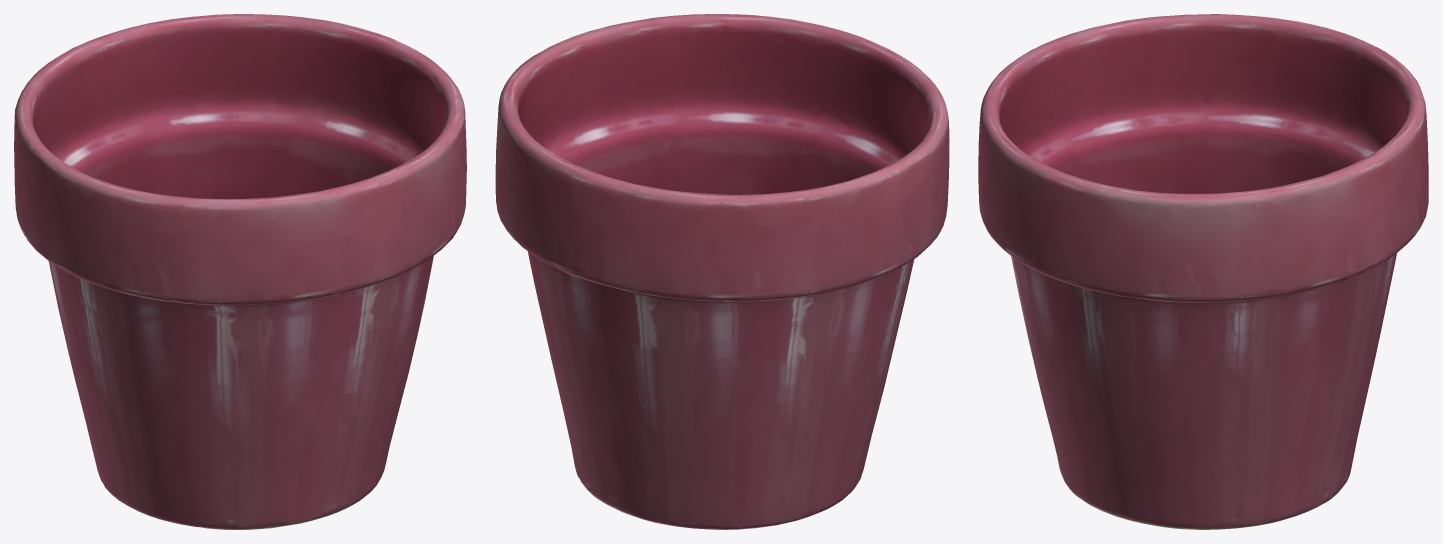
The model's file is Cole_Hardware_Electric_Pot_Assortment_55.glb.
3 renders of one model, left to right at view 1: azimuth 30°, elevation 25°; view 2: azimuth 150°, elevation 25°; view 3: azimuth 270°, elevation 25°, orthographic.
Parts seen in each view (by area): view 1: Cole_Hardware_Electric_Pot_Assortment_55; view 2: Cole_Hardware_Electric_Pot_Assortment_55; view 3: Cole_Hardware_Electric_Pot_Assortment_55.
Boxes of the visible parts, x1,y1,x2,y2 form: Cole_Hardware_Electric_Pot_Assortment_55: [14, 14, 466, 529]; Cole_Hardware_Electric_Pot_Assortment_55: [495, 14, 949, 529]; Cole_Hardware_Electric_Pot_Assortment_55: [978, 14, 1428, 529].
Size of the model in its own units: 0.143 by 0.128 by 0.1406.
Materials: 1 (1 with a texture image).
